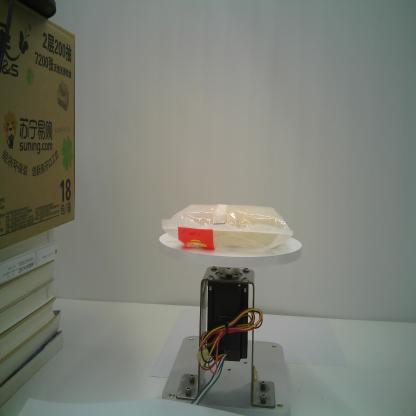Dessert: (161, 202, 295, 253)
